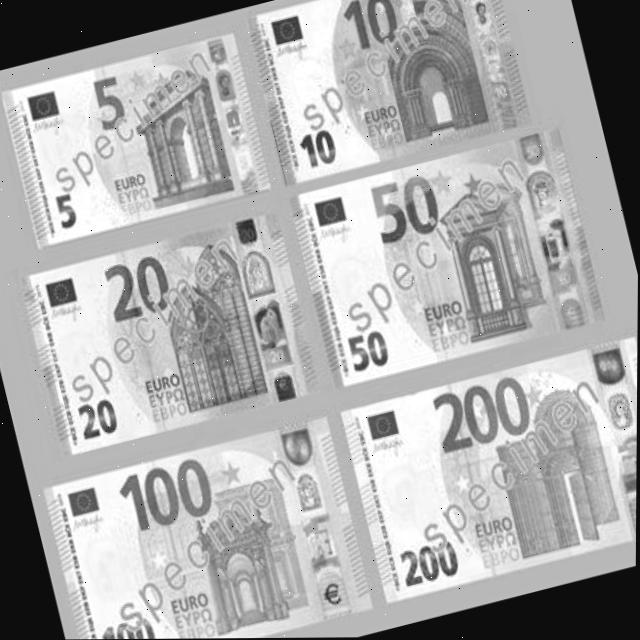banknote: (290, 126, 610, 396), (335, 332, 638, 607), (13, 209, 325, 460), (37, 412, 378, 640), (0, 31, 275, 249), (246, 0, 537, 190), (108, 447, 234, 548), (425, 367, 545, 465), (362, 164, 453, 257), (96, 244, 182, 331), (392, 534, 471, 596), (66, 390, 131, 449), (82, 71, 137, 140), (340, 324, 399, 381), (46, 182, 90, 239), (92, 610, 164, 639)
